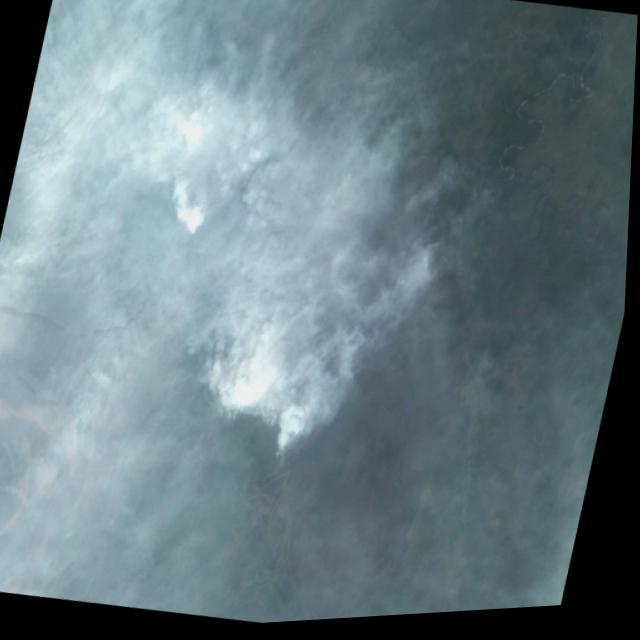fire: (153, 87, 241, 257)
